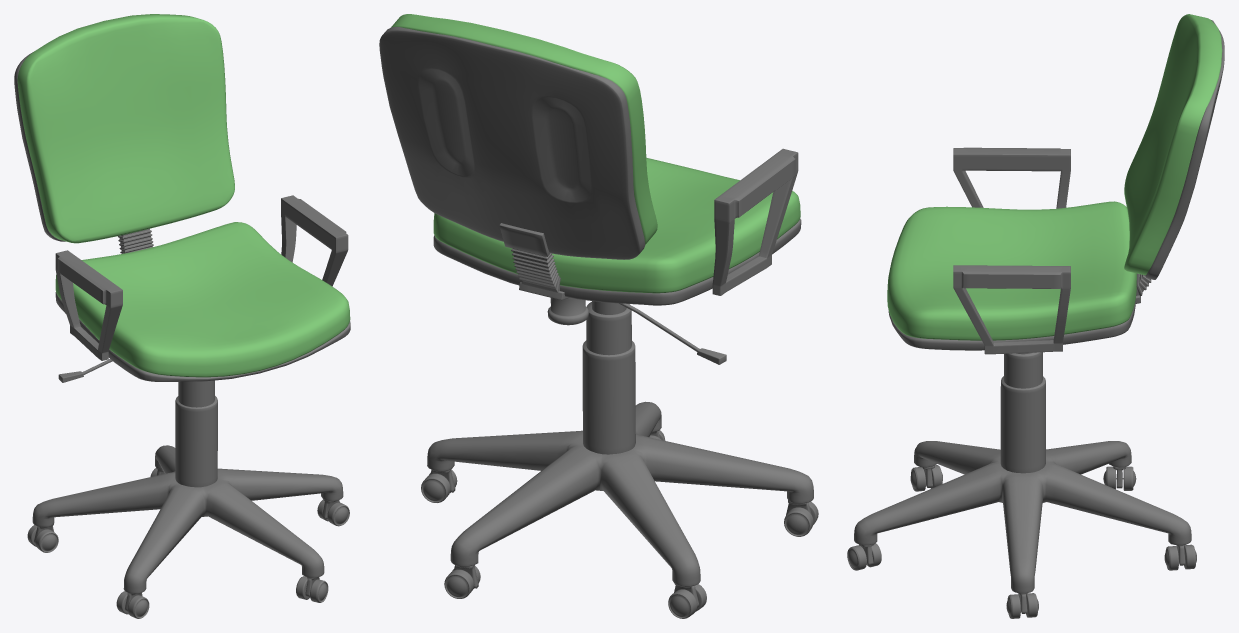
Rendered from chair.fbx.
3 renders of one model, left to right at view 1: azimuth 30°, elevation 25°; view 2: azimuth 150°, elevation 25°; view 3: azimuth 270°, elevation 25°, orthographic. The views are drawn at different scales.
Parts seen in each view (by area): view 1: Office_chair; view 2: Office_chair; view 3: Office_chair.
Boxes of the visible parts, <box> form: Office_chair: <box>14,14,350,618</box>; Office_chair: <box>379,14,818,618</box>; Office_chair: <box>847,14,1224,618</box>.
Size of the model in its own units: 54.24 by 90.22 by 61.7.
